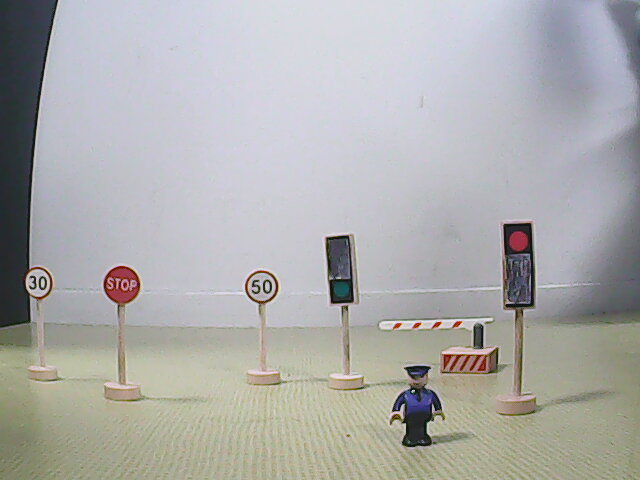barrier: (378, 314, 502, 375)
green_traffic_sign: (322, 232, 360, 306)
person: (390, 366, 446, 447)
red_traffic_sign: (499, 220, 535, 310)
sign_30: (20, 267, 54, 300)
sign_50: (245, 269, 279, 303)
stop_sign: (100, 266, 142, 306)
